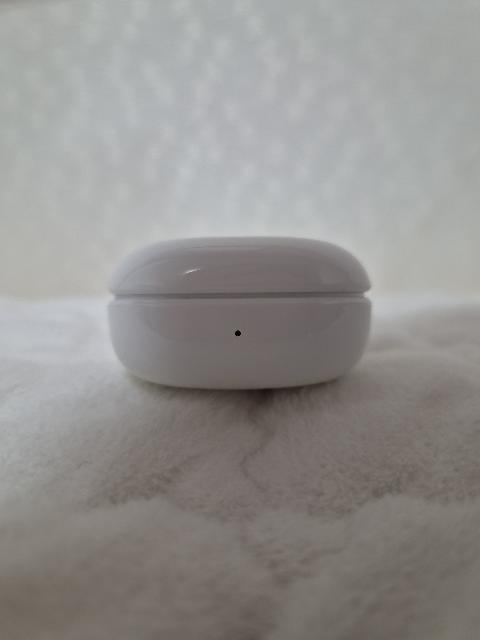earphone_case: (107, 236, 372, 390)
